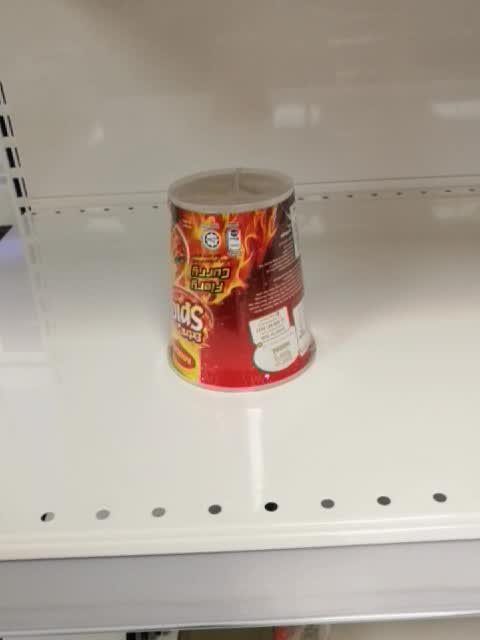maggi: (163, 166, 319, 395)
